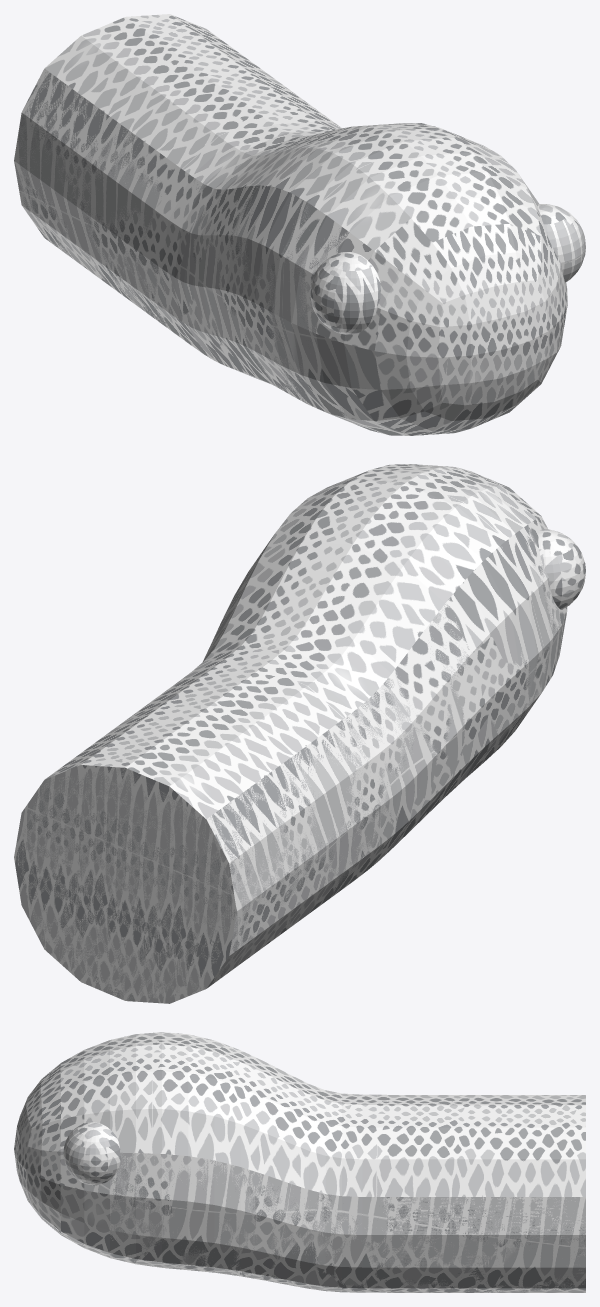
The model's file is snake_head.gltf.
3 renders of one model, top to bottom at view 1: azimuth 30°, elevation 25°; view 2: azimuth 150°, elevation 25°; view 3: azimuth 270°, elevation 25°, orthographic. The views are drawn at different scales.
Visible parts, largest first — view 1: cube; view 2: cube; view 3: cube.
Part boxes in pixels (x1,y1,x2,y2): cube: (14, 14, 585, 435); cube: (14, 464, 585, 1003); cube: (14, 1032, 585, 1292).
Bounding box in the file's own units: 5.56 × 6.27 × 13.66.
1 material, 1 textured.
